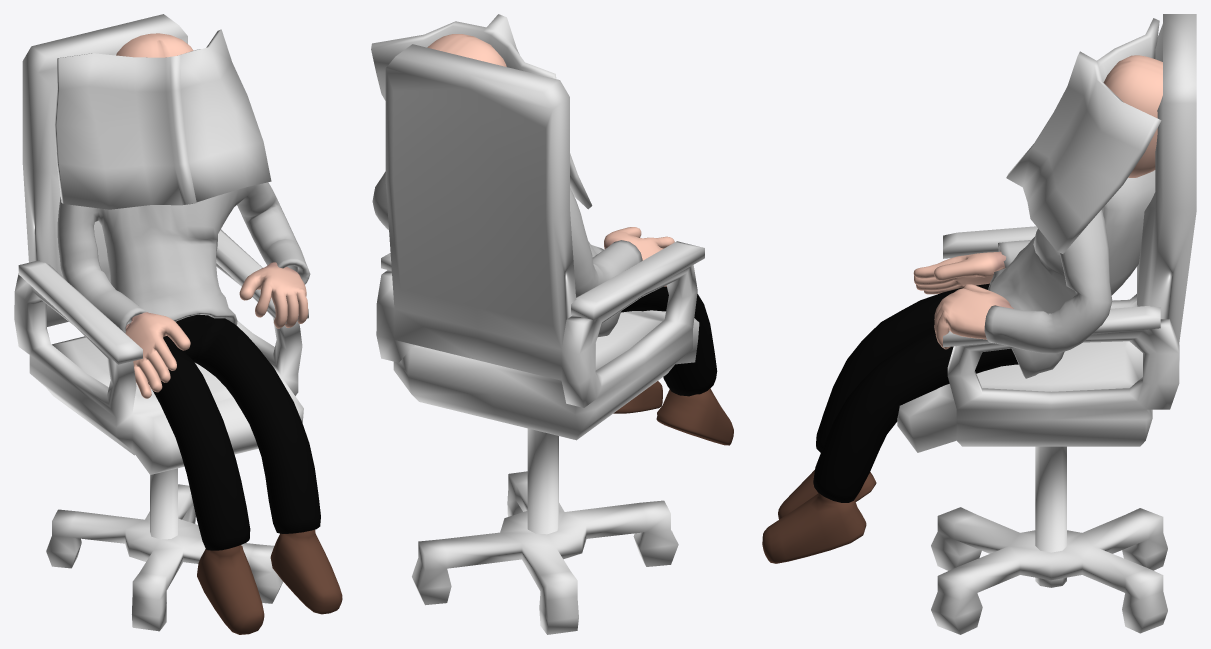
The model's file is chair.fbx.
The picture shows the model from 3 angles, left to right: view 1: azimuth 30°, elevation 25°; view 2: azimuth 150°, elevation 25°; view 3: azimuth 270°, elevation 25°; orthographic projection. The views are drawn at different scales.
Visible parts, largest first — view 1: Chair, Plane, Body, jacket, Feet, main, Face; view 2: Chair, jacket, Plane, Feet, Body, Face, main; view 3: Chair, jacket, Plane, Body, Feet, main, Face.
Boxes of the visible parts, x1,y1,x2,y2 form: Chair: [14, 14, 308, 631]; Plane: [54, 29, 271, 209]; Body: [148, 314, 320, 550]; jacket: [57, 182, 310, 333]; Feet: [197, 529, 342, 634]; main: [125, 262, 308, 398]; Face: [116, 33, 193, 57]; Chair: [376, 44, 704, 634]; jacket: [372, 171, 642, 336]; Plane: [371, 14, 592, 209]; Feet: [613, 381, 733, 445]; Body: [621, 286, 717, 396]; Face: [427, 34, 506, 66]; main: [604, 227, 674, 286]; Chair: [897, 14, 1196, 634]; jacket: [984, 170, 1155, 378]; Plane: [1006, 18, 1161, 253]; Body: [813, 283, 1018, 502]; Feet: [762, 470, 876, 563]; main: [913, 251, 1013, 349]; Face: [1103, 55, 1162, 177].
Size of the model in its own units: 602 by 1267 by 898.
